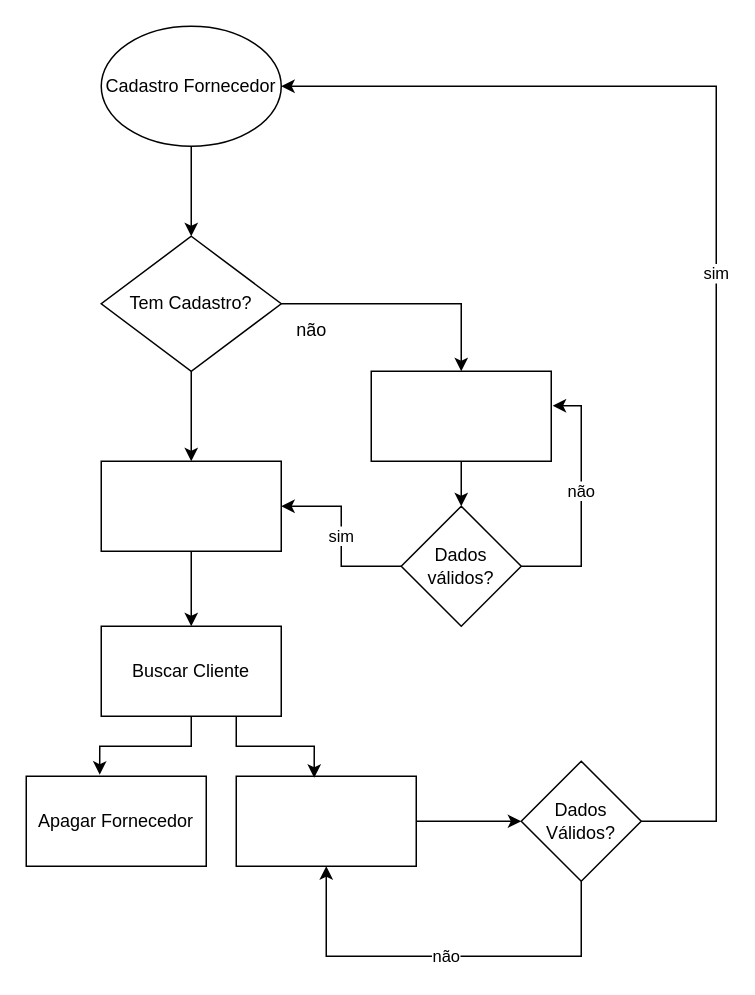
The diagram is 755 pixels wide and 995 high, and some of its shapes have lost their labels. Each missing label, with the centre of its shape:
"Atualizar Fornecedor" goes at (x=325, y=820).
"Criar cadastro (nome,telefone, endereço)" goes at (x=460, y=415).
"Listar" goes at (x=190, y=505).
